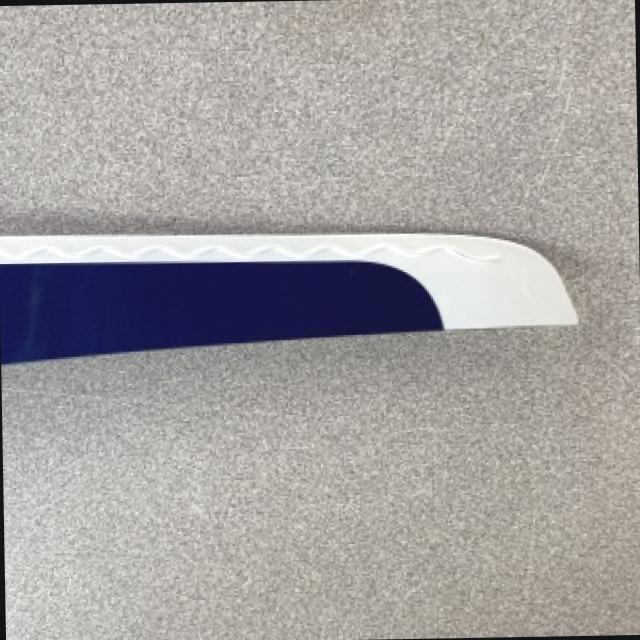healthy: (1, 234, 576, 362)
